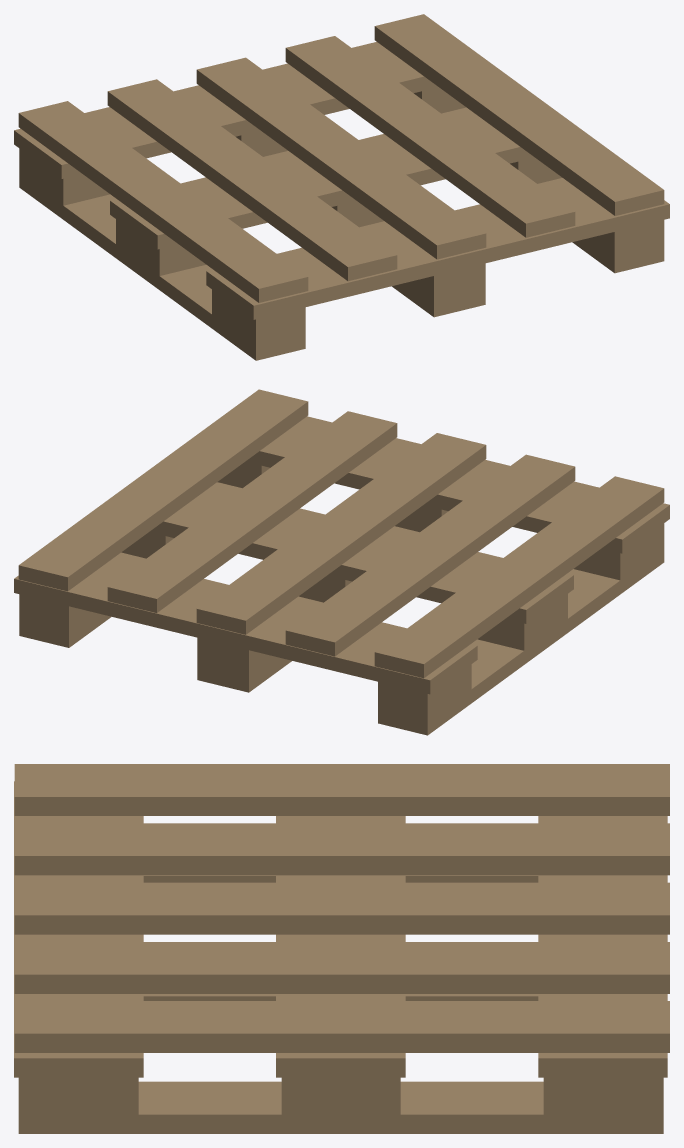
Rendered from pallet.obj.
3 renders of one model, top to bottom at view 1: azimuth 30°, elevation 25°; view 2: azimuth 150°, elevation 25°; view 3: azimuth 270°, elevation 25°, orthographic. The views are drawn at different scales.
Visible parts, largest first — view 1: polymsh_Shape_IndexedFaceSet; view 2: polymsh_Shape_IndexedFaceSet; view 3: polymsh_Shape_IndexedFaceSet.
Boxes of the visible parts, x1,y1,x2,y2 form: polymsh_Shape_IndexedFaceSet: [14, 14, 669, 360]; polymsh_Shape_IndexedFaceSet: [14, 389, 669, 735]; polymsh_Shape_IndexedFaceSet: [14, 764, 669, 1133].
Bounding box in the file's own units: 12 × 2.01 × 12.01.
